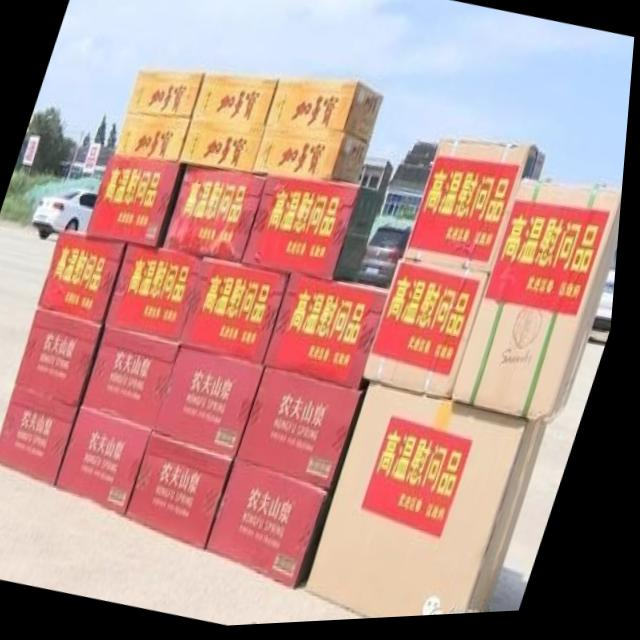box: (315, 386, 553, 623), (457, 185, 626, 431), (407, 144, 549, 279), (369, 263, 494, 404), (215, 461, 345, 593), (243, 369, 376, 494), (268, 274, 393, 395), (245, 176, 365, 284), (133, 433, 240, 551), (160, 346, 270, 460), (184, 258, 294, 368), (63, 407, 158, 518), (166, 165, 270, 266), (87, 326, 186, 432), (109, 244, 206, 344), (89, 155, 189, 249), (20, 308, 111, 407), (0, 386, 87, 487), (43, 230, 132, 325), (267, 80, 385, 147), (254, 130, 371, 188), (193, 75, 280, 128), (181, 122, 267, 175), (128, 70, 206, 119), (117, 115, 193, 162)
